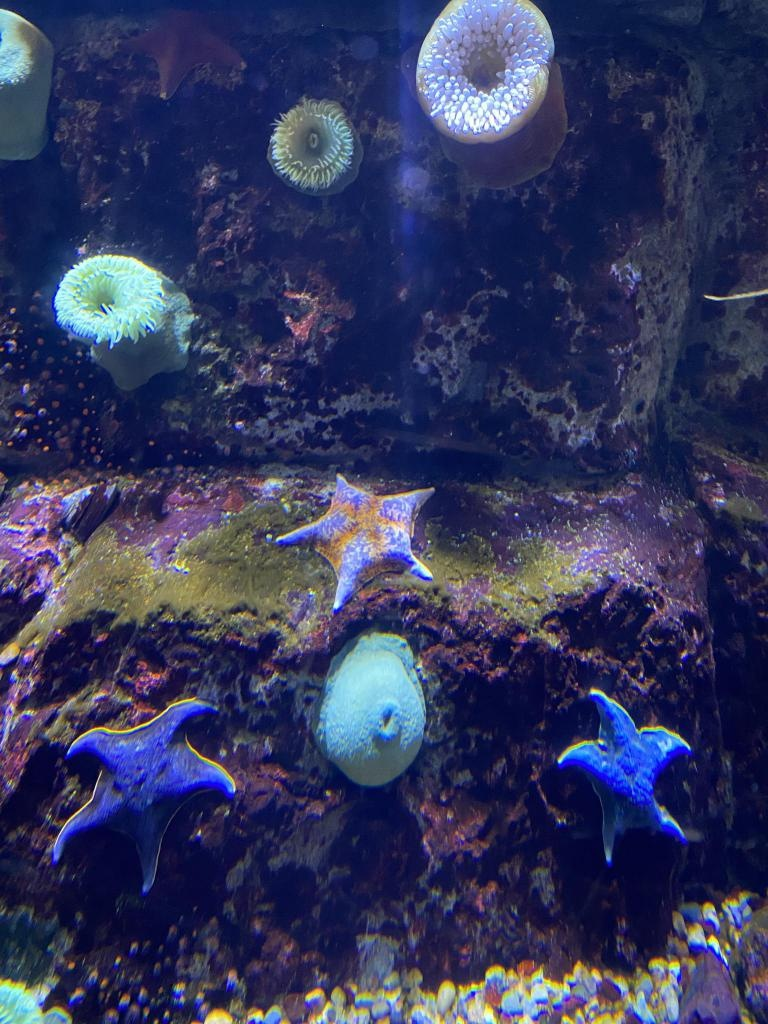starfish: (54, 696, 236, 896), (553, 684, 701, 870), (275, 474, 439, 614)
